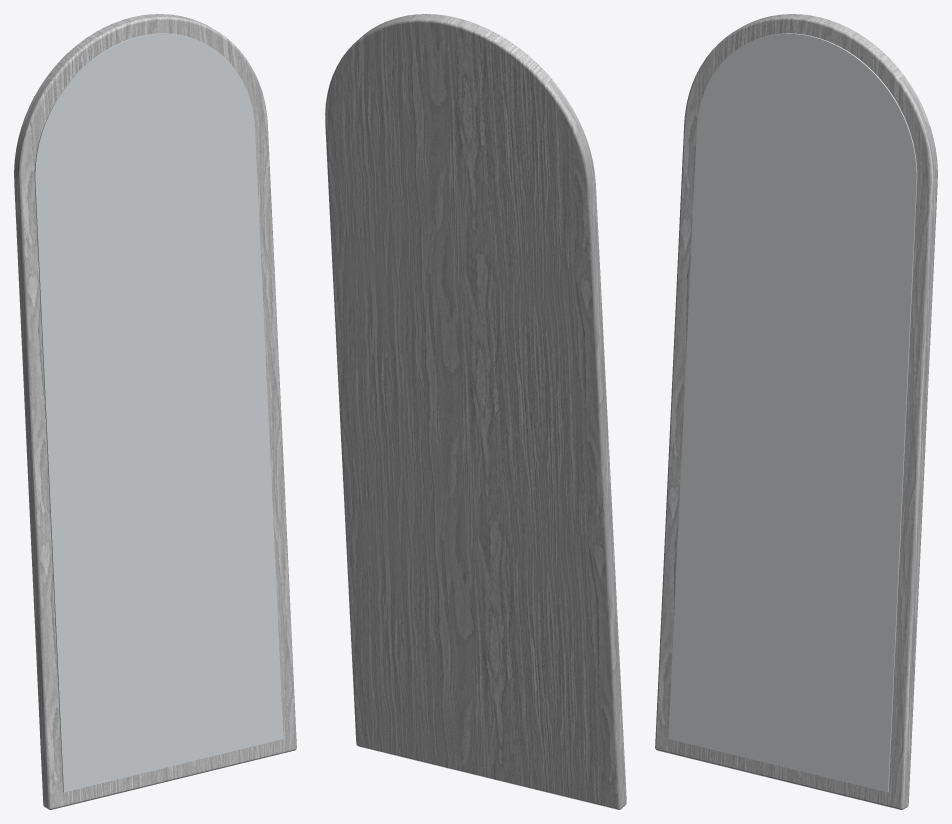
The model's file is mirror.gltf.
The picture shows the model from 3 angles, left to right: view 1: azimuth 30°, elevation 25°; view 2: azimuth 150°, elevation 25°; view 3: azimuth 330°, elevation 25°; orthographic projection. The views are drawn at different scales.
Parts seen in each view (by area): view 1: mirror; view 2: mirror; view 3: mirror.
Boxes of the visible parts, left/top/right/bottom form: mirror: left=14, top=14, right=296, bottom=809; mirror: left=325, top=14, right=626, bottom=809; mirror: left=655, top=14, right=937, bottom=809.
Bounding box in the file's own units: 0.6 × 1.7 × 0.1774.
Materials: 2 (1 with a texture image).
